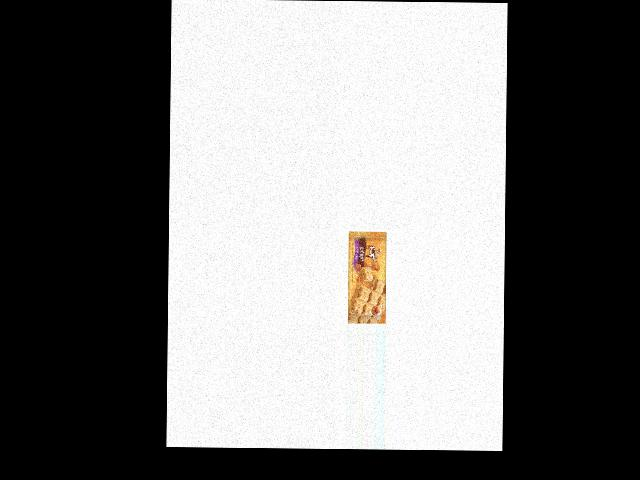chocolate: (344, 228, 386, 324)
